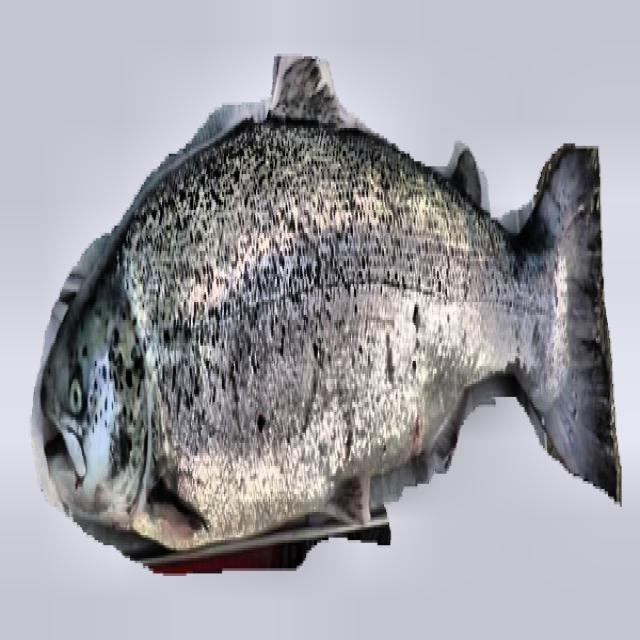mild_red: (124, 123, 567, 540)
